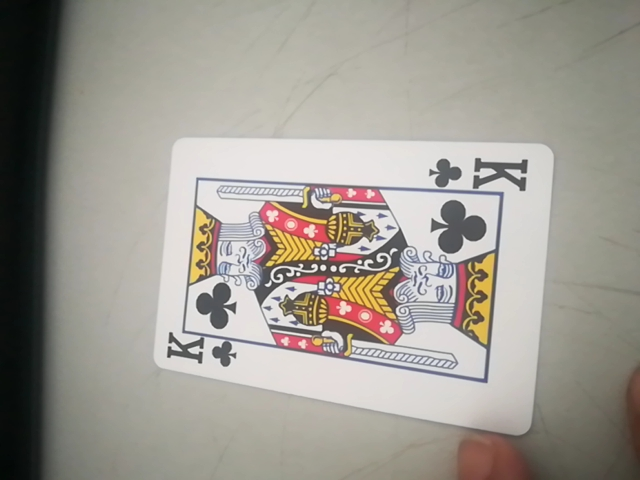mh k: (152, 137, 552, 435)
